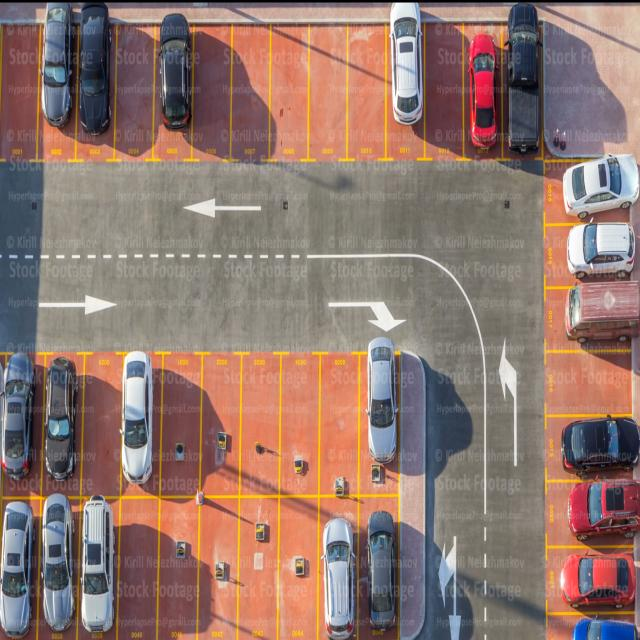cars: (562, 152, 639, 222), (561, 414, 639, 477), (80, 494, 115, 633), (0, 500, 35, 638), (564, 280, 640, 343), (41, 492, 75, 632), (566, 477, 640, 541), (119, 350, 154, 485), (1, 352, 36, 481), (78, 2, 111, 136), (43, 356, 78, 481), (560, 551, 635, 609), (39, 4, 74, 127), (320, 517, 355, 639), (389, 1, 423, 125), (566, 220, 635, 280), (365, 336, 397, 464), (158, 13, 192, 130), (366, 510, 396, 631), (468, 33, 498, 148), (572, 616, 640, 639)
